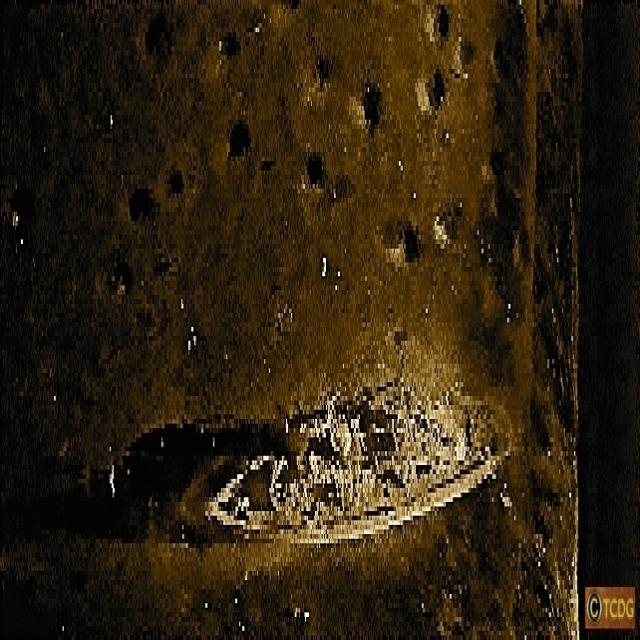ship: (204, 380, 514, 548)
